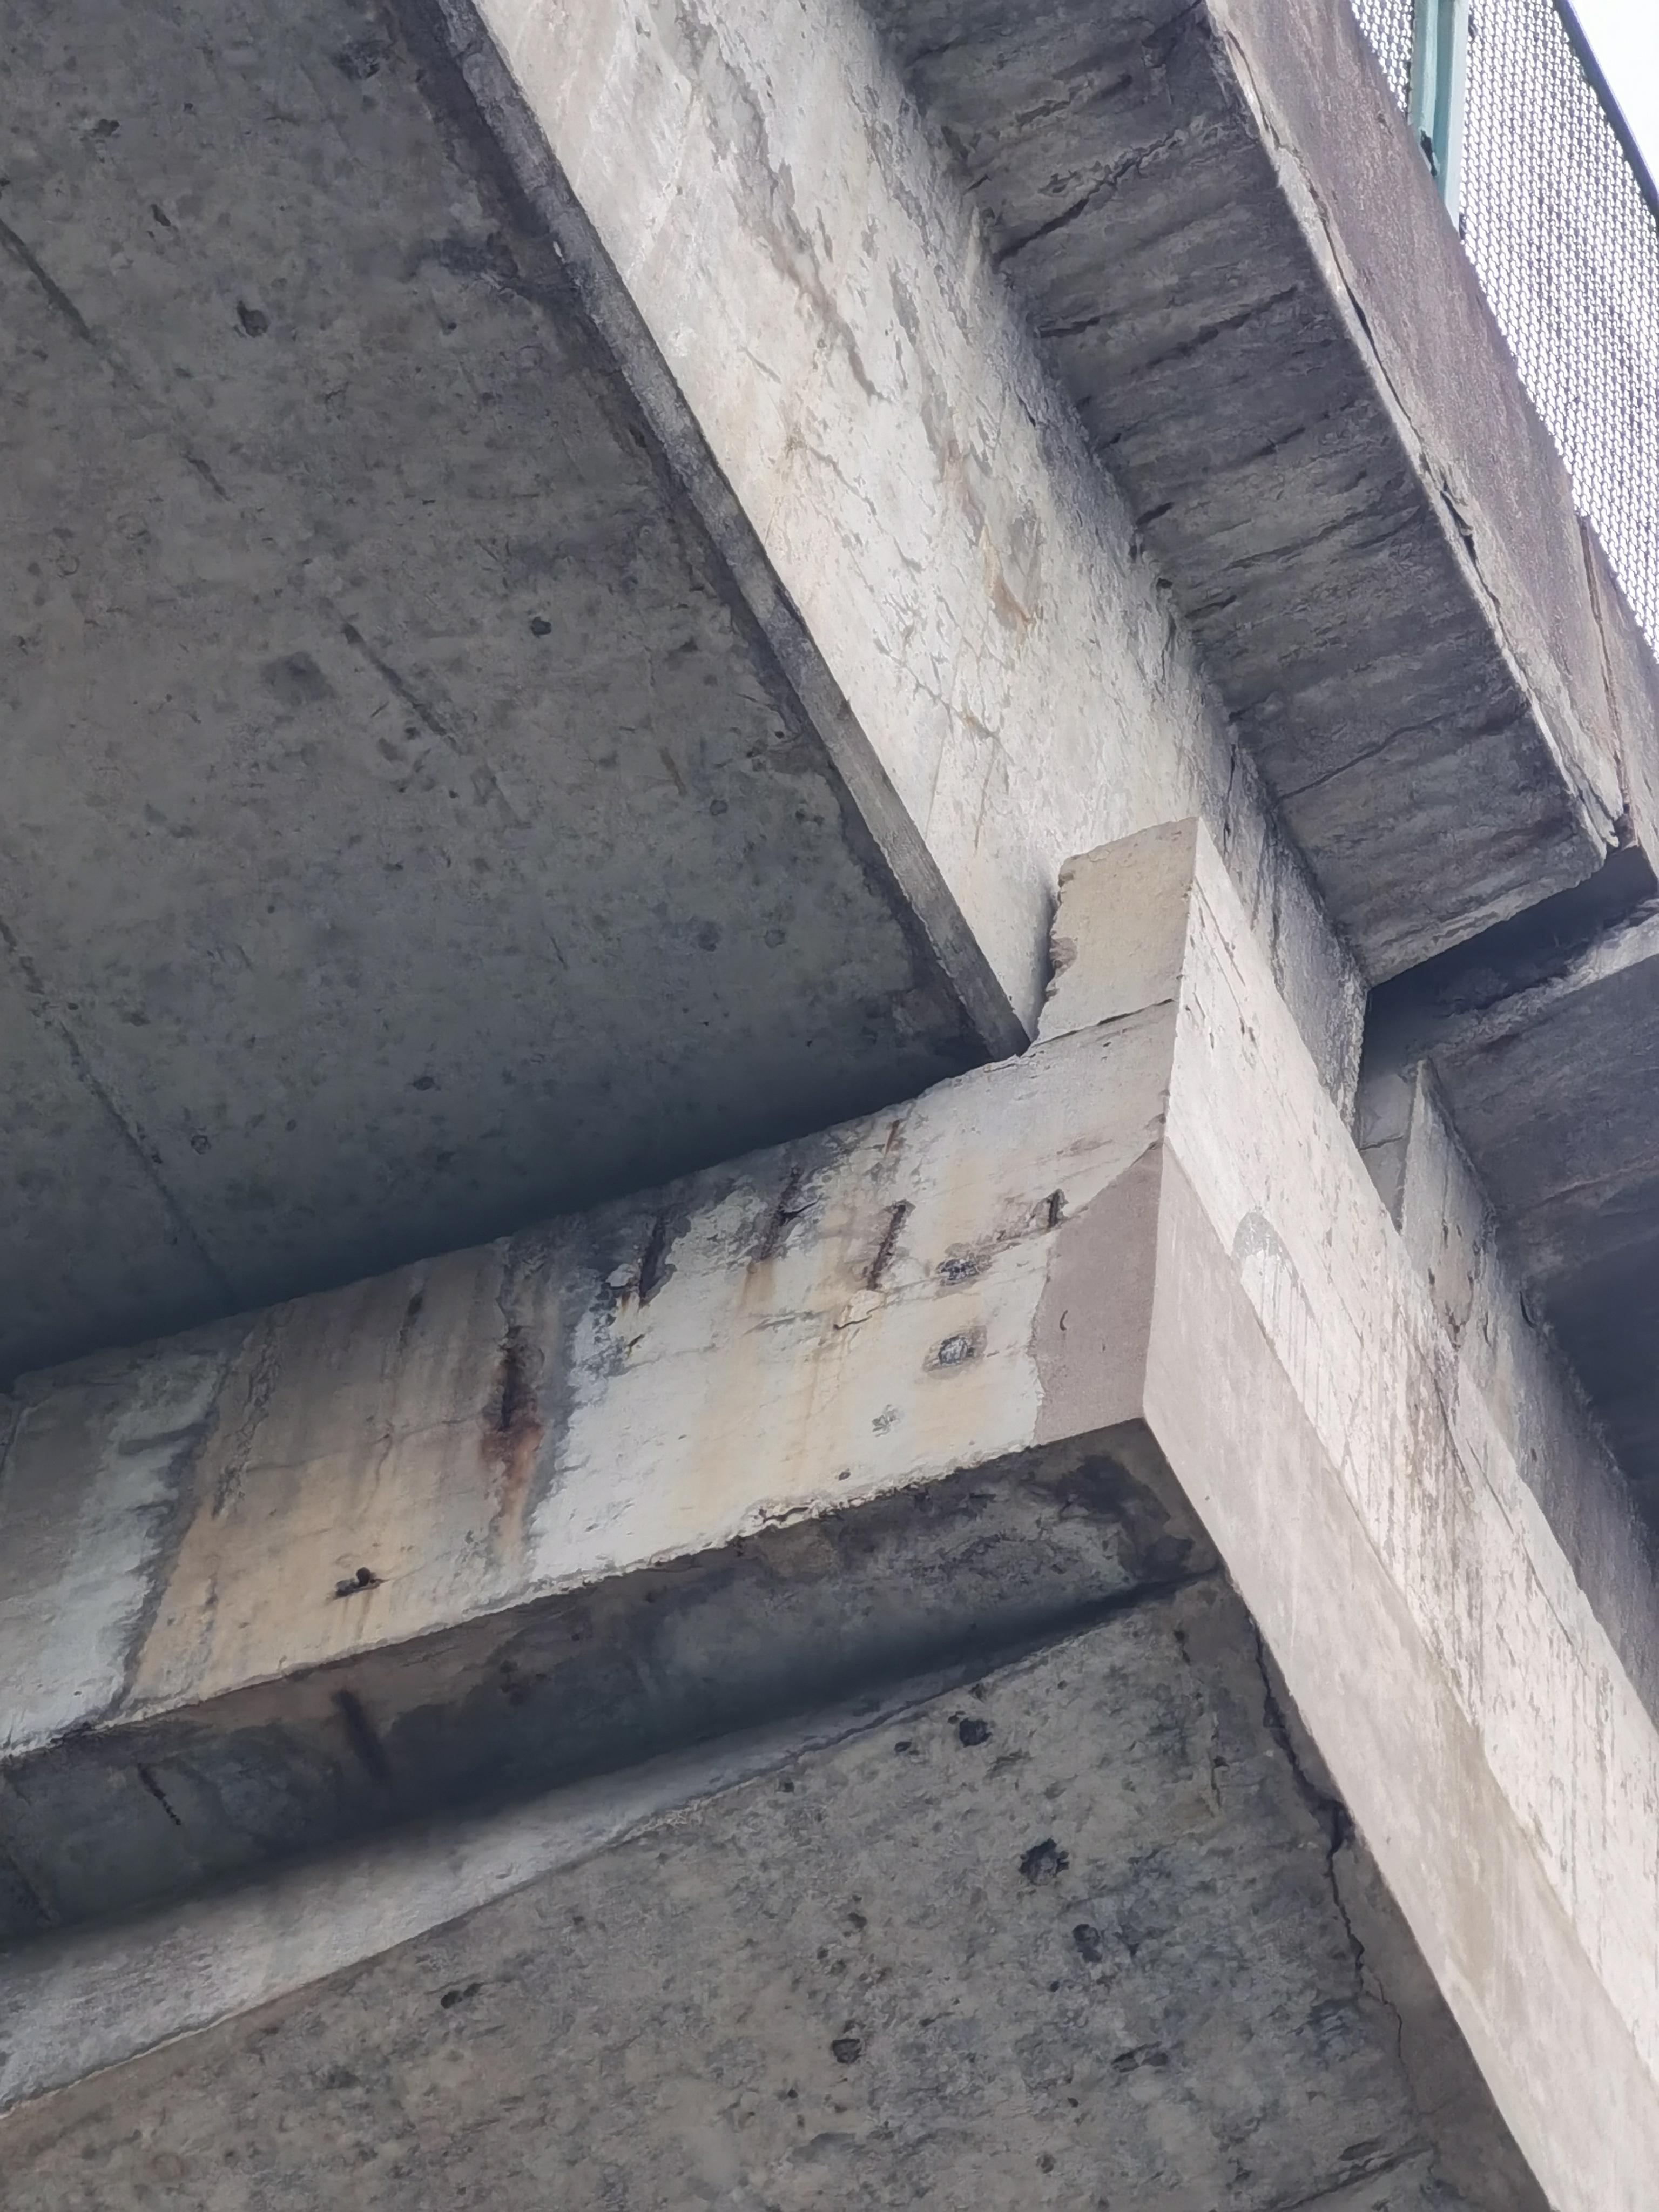corrosion: (1039, 113, 1239, 200), (1006, 66, 1108, 136)
crack: (1249, 1616, 1408, 2071)
rebar: (863, 1204, 911, 1289), (756, 1170, 800, 1263), (138, 1766, 185, 1827), (634, 1219, 664, 1301), (331, 1566, 380, 1601), (500, 1350, 518, 1430), (884, 1120, 899, 1153), (1047, 1190, 1060, 1230)
separation: (833, 1287, 884, 1331), (1223, 744, 1243, 853), (1518, 1289, 1539, 1327)
spall: (483, 1167, 718, 1454), (720, 1115, 868, 1271), (999, 131, 1178, 258), (204, 1341, 277, 1524), (1148, 287, 1298, 369), (732, 1493, 842, 1583), (331, 1686, 394, 1789), (1140, 0, 1223, 75), (1439, 972, 1567, 1021), (1018, 1838, 1070, 1890), (1044, 935, 1079, 1003), (1480, 700, 1534, 738), (498, 1658, 540, 1707), (934, 1251, 990, 1287), (1112, 2040, 1169, 2074), (1225, 691, 1274, 726), (1256, 427, 1309, 458), (1035, 315, 1103, 338), (1072, 1923, 1107, 1966), (939, 1332, 978, 1369), (1187, 596, 1236, 624), (906, 44, 953, 70), (957, 1717, 993, 1750), (826, 2036, 863, 2066), (1054, 871, 1073, 927), (1134, 500, 1173, 528), (1485, 1031, 1521, 1055)
voids and pits: (890, 1487, 1108, 1615)
